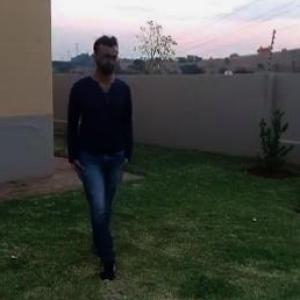follow: (65, 24, 154, 290)
